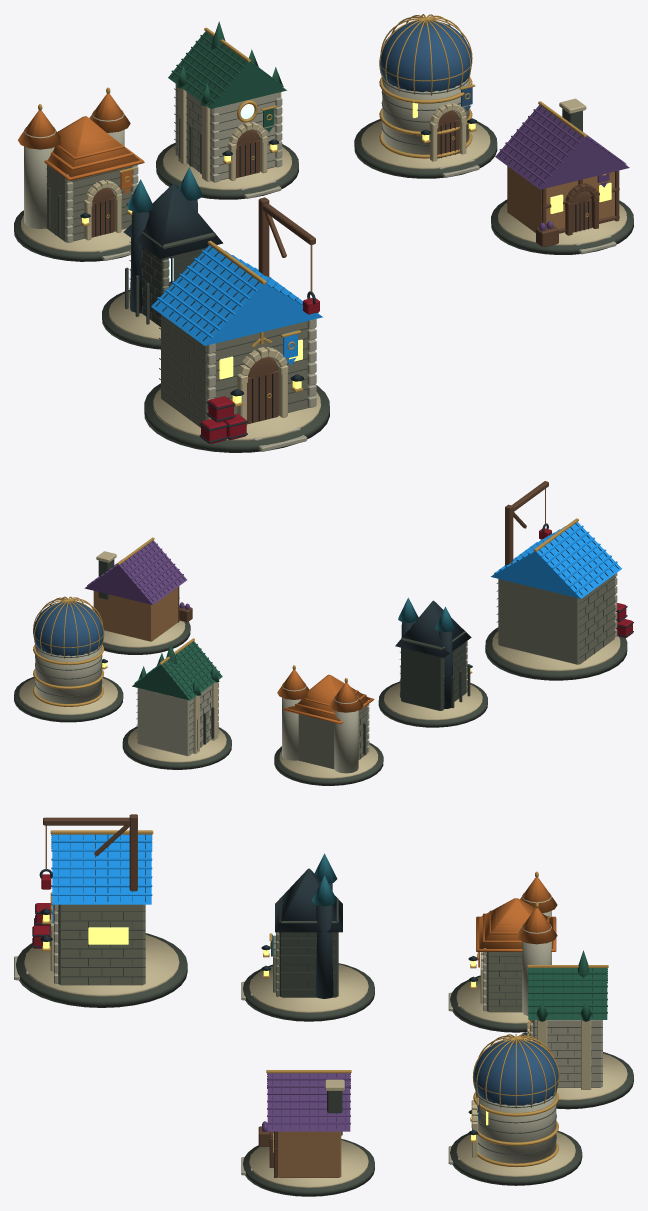
Rendered from guild.glb.
3 renders of one model, top to bottom at view 1: azimuth 30°, elevation 25°; view 2: azimuth 150°, elevation 25°; view 3: azimuth 270°, elevation 25°, orthographic. The views are drawn at different scales.
Visible parts, largest first — view 1: hall_docker_mesh, hall_openai_mesh, hall_google_mesh, hall_anthropic_mesh, hall_shell_mesh, hall_xai_mesh; view 2: hall_docker_mesh, hall_openai_mesh, hall_anthropic_mesh, hall_google_mesh, hall_xai_mesh, hall_shell_mesh; view 3: hall_docker_mesh, hall_google_mesh, hall_shell_mesh, hall_xai_mesh, hall_openai_mesh, hall_anthropic_mesh.
Boxes of the visible parts, bbox=[...] form: hall_docker_mesh: bbox=[144, 197, 329, 452]; hall_openai_mesh: bbox=[156, 21, 298, 199]; hall_google_mesh: bbox=[354, 14, 497, 178]; hall_anthropic_mesh: bbox=[14, 87, 144, 261]; hall_shell_mesh: bbox=[491, 98, 633, 254]; hall_xai_mesh: bbox=[102, 167, 223, 349]; hall_docker_mesh: bbox=[485, 481, 633, 680]; hall_openai_mesh: bbox=[122, 638, 231, 769]; hall_anthropic_mesh: bbox=[274, 665, 383, 785]; hall_google_mesh: bbox=[14, 596, 123, 722]; hall_xai_mesh: bbox=[378, 597, 487, 727]; hall_shell_mesh: bbox=[84, 537, 192, 654]; hall_docker_mesh: bbox=[14, 814, 187, 1007]; hall_google_mesh: bbox=[448, 1034, 582, 1185]; hall_shell_mesh: bbox=[241, 1070, 374, 1196]; hall_xai_mesh: bbox=[241, 853, 374, 1021]; hall_openai_mesh: bbox=[521, 950, 633, 1109]; hall_anthropic_mesh: bbox=[448, 871, 557, 1032].
Size of the model in its own units: 23.87 by 7.52 by 23.94.
